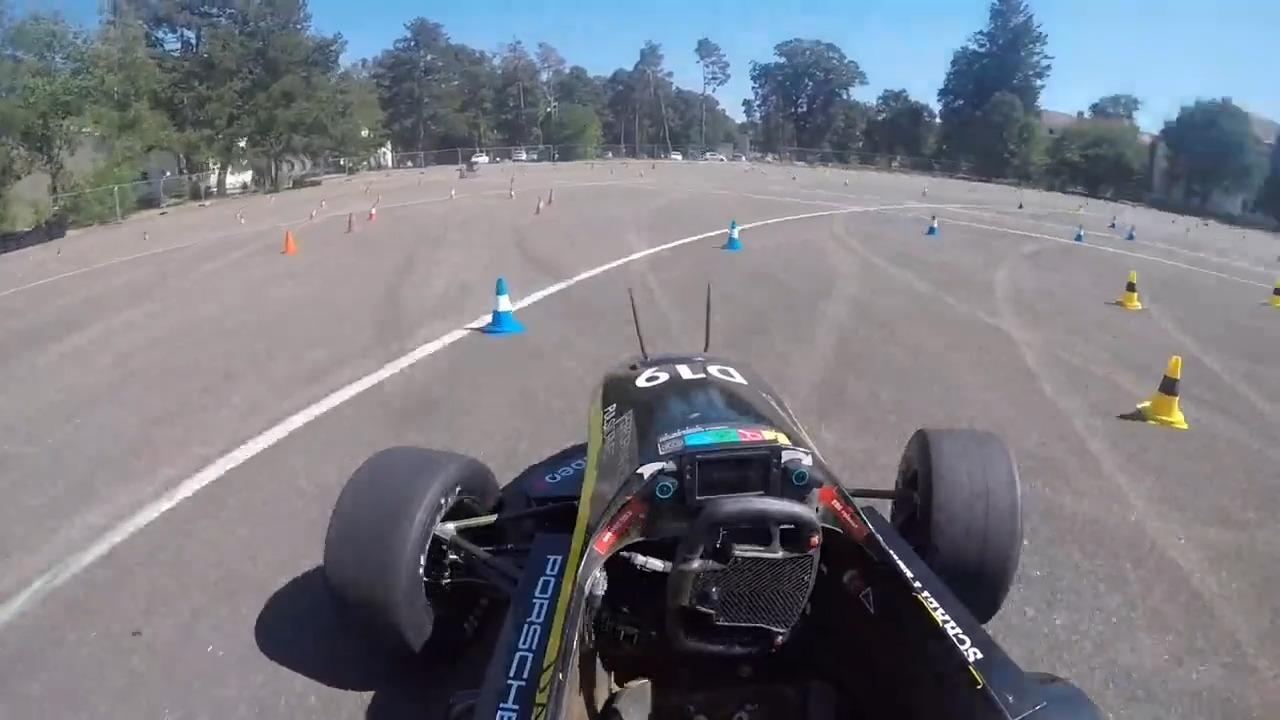blue_cone: (477, 275, 527, 338), (722, 220, 745, 253), (925, 215, 943, 239), (1074, 223, 1087, 244)
yellow_cone: (1133, 351, 1192, 433), (1115, 268, 1146, 311), (1263, 275, 1280, 312)
